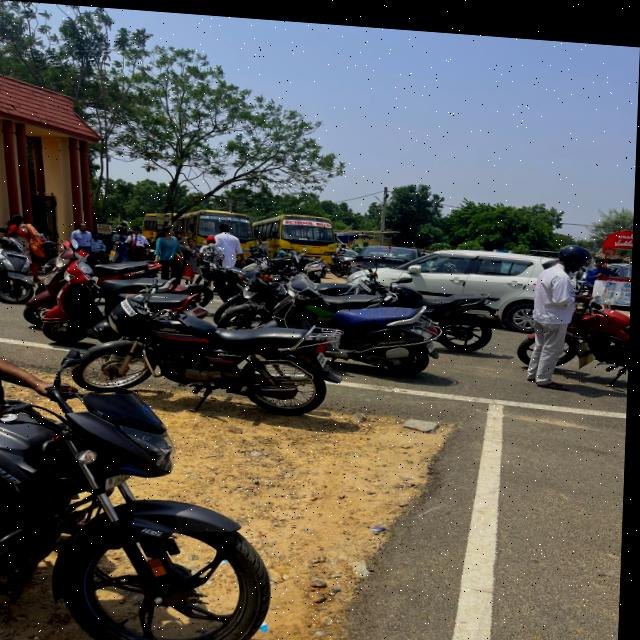bike: (0, 332, 284, 640), (88, 290, 334, 433), (271, 271, 462, 382), (44, 254, 223, 371), (50, 242, 158, 319), (244, 267, 397, 319), (567, 284, 633, 378), (0, 226, 42, 315), (192, 257, 248, 307), (300, 247, 331, 275)
bus: (251, 204, 344, 260), (179, 205, 263, 262), (142, 206, 176, 241)
car: (347, 232, 562, 331), (349, 237, 424, 272)
